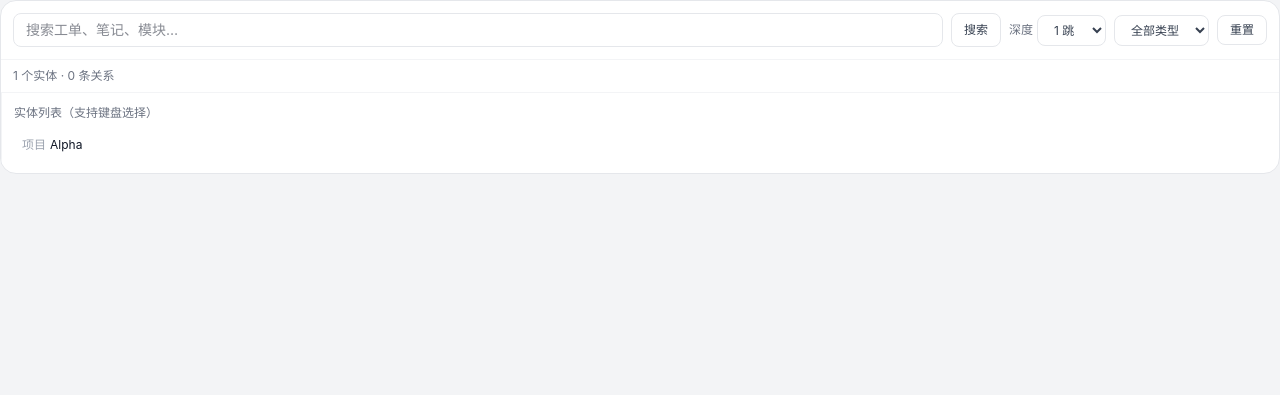
Scenario: reusable graph view › expands without losing the existing nodes or project restriction
What coordinates should you click on to do the following:
click the button "项目Alpha"
I would click on:
 (66, 144)
Its box is x1=14 y1=129 x2=277 y2=161.
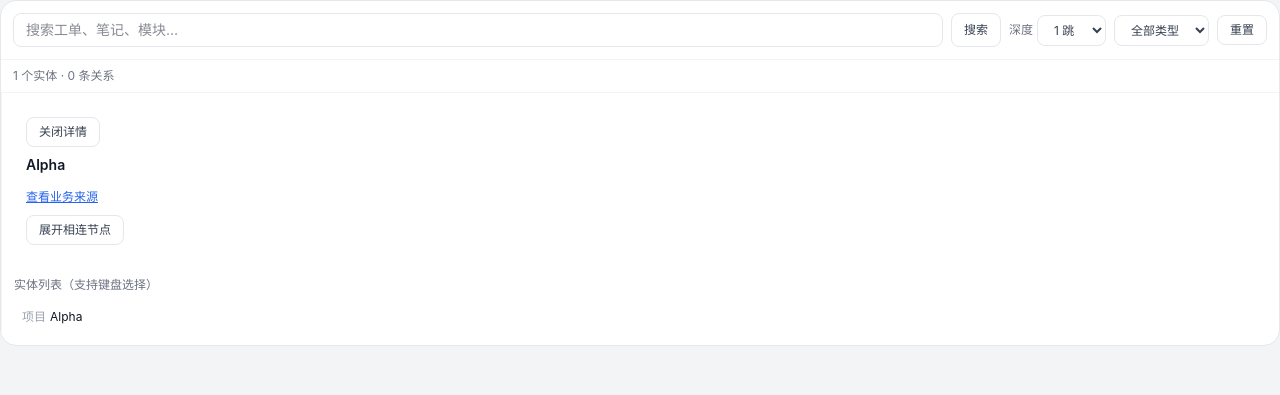
What coordinates should you click on to do the following:
click the button "展开相连节点"
I would click on:
 (75, 230)
Its box is x1=26 y1=215 x2=124 y2=245.
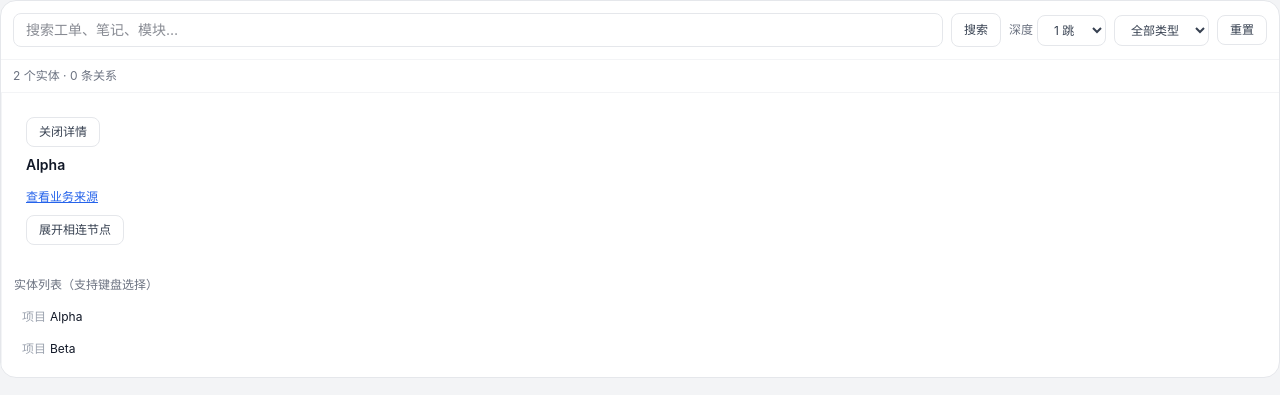
Expected: the button "项目Alpha" is shown, x1=14 y1=301 x2=277 y2=333
Now the button "项目Beta" is shown, box x1=14 y1=333 x2=277 y2=365
